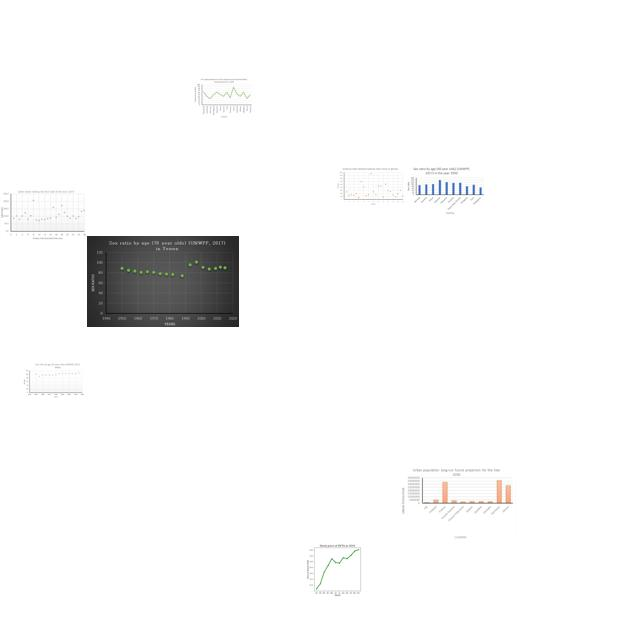Graph: (87, 236, 239, 327), (399, 466, 516, 539), (296, 541, 377, 597), (0, 189, 86, 240), (405, 165, 485, 217), (337, 167, 405, 206), (193, 77, 253, 119), (23, 362, 85, 399)
